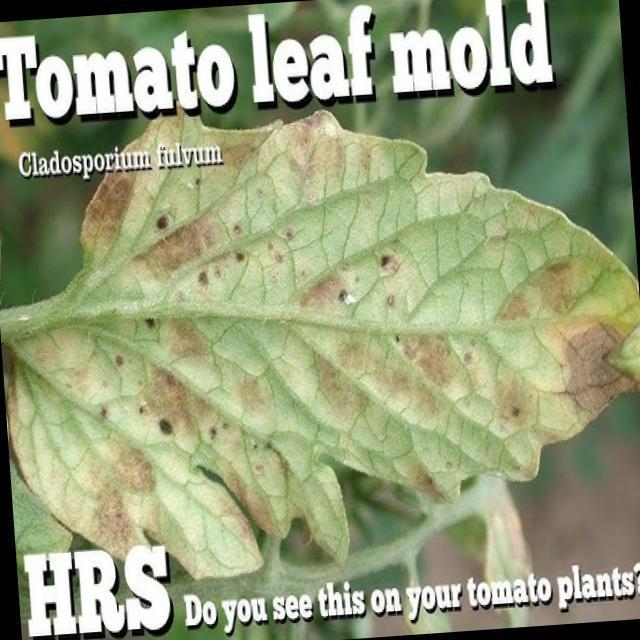Mosaic Virus: (0, 85, 640, 575)
